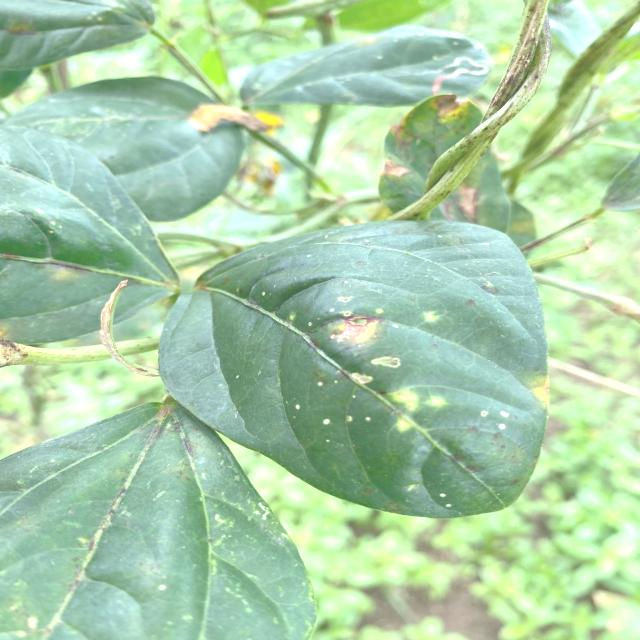sitaw-aphid-high: (159, 220, 548, 518), (0, 402, 315, 640), (0, 126, 175, 343), (0, 278, 102, 328)
